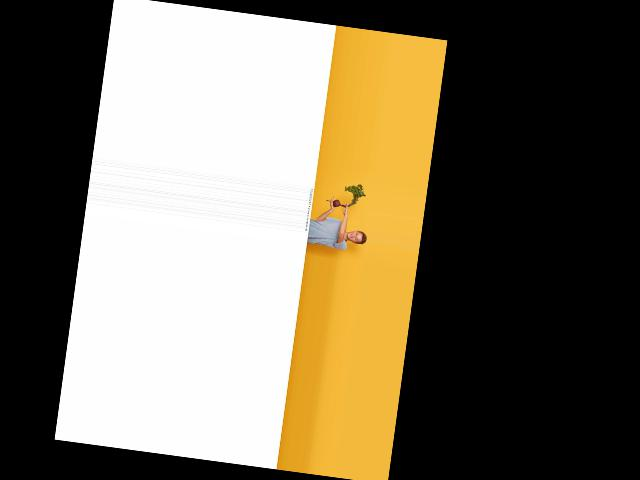beet: (325, 179, 366, 210)
